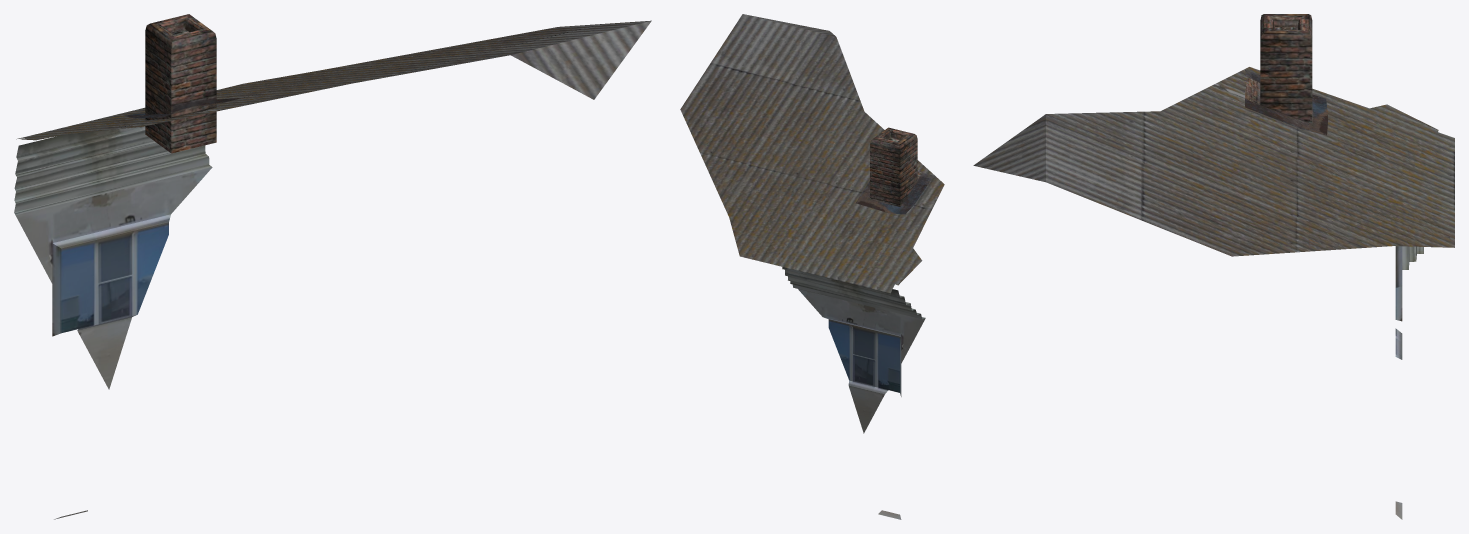
File: House_03_09.fbx
3 renders of one model, left to right at view 1: azimuth 30°, elevation 25°; view 2: azimuth 150°, elevation 25°; view 3: azimuth 270°, elevation 25°, orthographic. The views are drawn at different scales.
Visible parts, largest first — view 1: Дом2.009; view 2: Дом2.009; view 3: Дом2.009.
Boxes of the visible parts, <box> form: Дом2.009: <box>14,14,651,519</box>; Дом2.009: <box>680,14,944,519</box>; Дом2.009: <box>973,14,1454,519</box>.
Bounding box in the file's own units: 14.81 × 16.4 × 13.68.
Materials: 1 (1 with a texture image).
